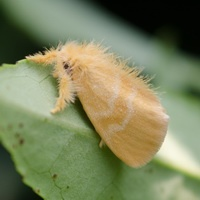insect: (26, 41, 168, 167)
